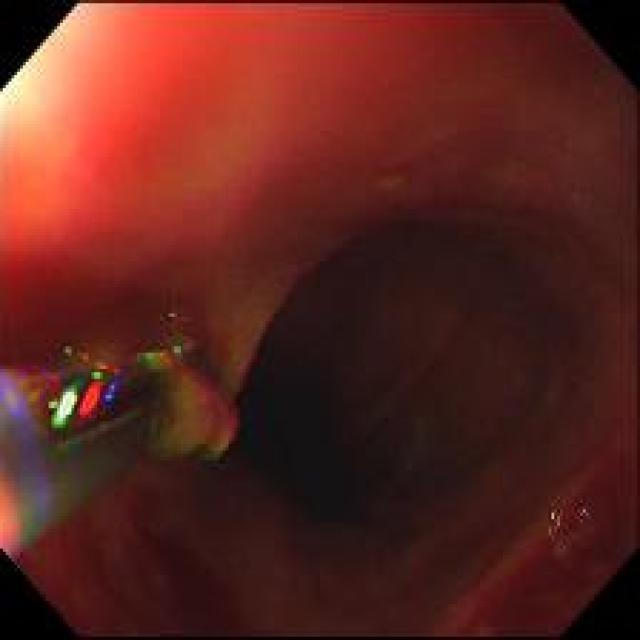blood: (452, 461, 638, 638)
color misalignment: (2, 384, 50, 523), (48, 363, 121, 432), (140, 305, 195, 370)
contrast: (241, 234, 562, 567)
instrument: (1, 350, 238, 560), (138, 349, 238, 463), (546, 511, 566, 542), (578, 509, 593, 526), (80, 353, 90, 361), (66, 347, 72, 356)
saturation: (2, 45, 47, 120)
specularity: (59, 396, 75, 417)
